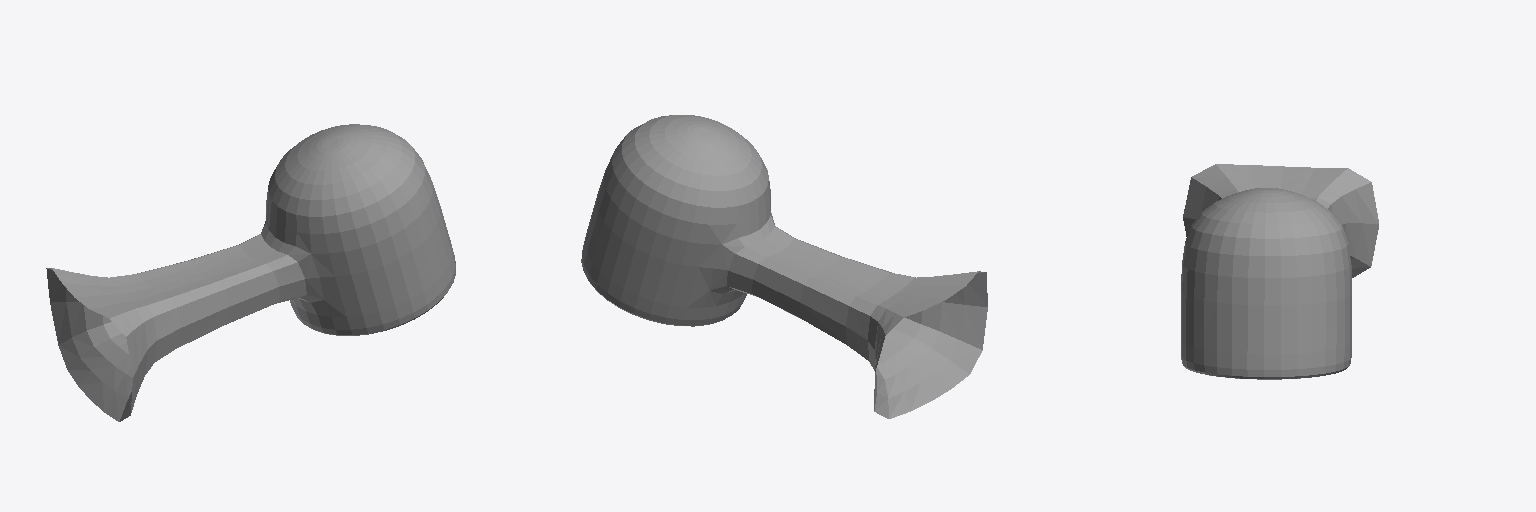
Rendered from desk_lamp_bulb_holder.obj.
3 renders of one model, left to right at view 1: azimuth 30°, elevation 25°; view 2: azimuth 150°, elevation 25°; view 3: azimuth 270°, elevation 25°, orthographic.
Visible parts, largest first — view 1: Circle.002_Circle.001; view 2: Circle.002_Circle.001; view 3: Circle.002_Circle.001.
Boxes of the visible parts, x1=… form: Circle.002_Circle.001: x1=46, y1=124, x2=455, y2=421; Circle.002_Circle.001: x1=581, y1=115, x2=987, y2=418; Circle.002_Circle.001: x1=1181, y1=164, x2=1378, y2=379.
Bounding box in the file's own units: 0.0423 × 0.0232 × 0.02.